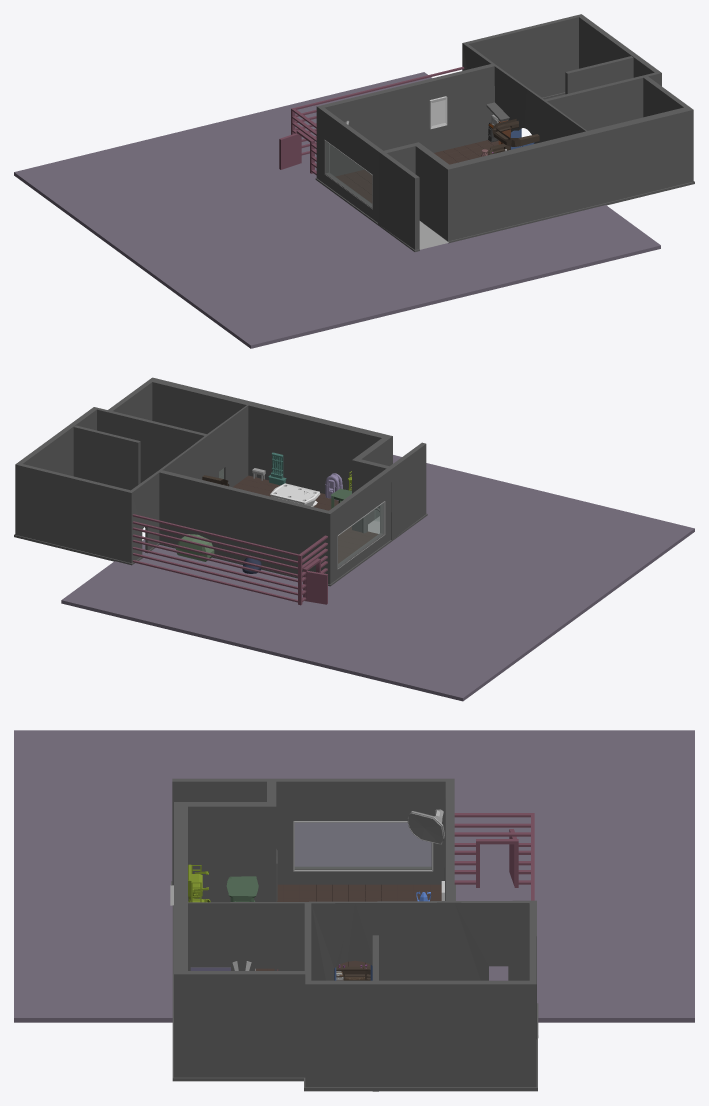
The model's file is Bar(ver).fbx.
3 views of the same model, one above another, from view 1: azimuth 30°, elevation 25°; view 2: azimuth 150°, elevation 25°; view 3: azimuth 270°, elevation 25° (orthographic). The views are drawn at different scales.
Visible parts, largest first — view 1: pCube221, polySurface1801, pCube223, pCube156, polySurface1746, polySurface1822; view 2: pCube221, polySurface1801, pCube223, pCube156, polySurface1746, polySurface1612, pCube212; view 3: pCube221, polySurface1801, pCube156, pCube223, polySurface1746, polySurface2137, polySurface1395, polySurface2217.
Boxes of the visible parts, x1,y1,x2,y2 form: pCube221: [14, 72, 660, 348]; polySurface1801: [315, 14, 694, 251]; pCube223: [279, 67, 464, 175]; pCube156: [324, 140, 372, 209]; polySurface1746: [335, 140, 498, 203]; polySurface1822: [492, 119, 539, 146]; pCube221: [61, 455, 694, 701]; polySurface1801: [14, 377, 427, 586]; pCube223: [132, 514, 327, 605]; pCube156: [337, 501, 385, 569]; polySurface1746: [233, 475, 378, 563]; polySurface1612: [270, 483, 320, 506]; pCube212: [176, 534, 214, 561]; pCube221: [14, 730, 694, 1022]; polySurface1801: [171, 778, 538, 1091]; pCube156: [293, 821, 433, 871]; pCube223: [454, 813, 534, 900]; polySurface1746: [255, 884, 441, 970]; polySurface2137: [407, 809, 444, 844]; polySurface1395: [226, 876, 258, 901]; polySurface2217: [188, 864, 210, 902].
Size of what is drawn, in the model's own units: 5731 by 840 by 4581.
